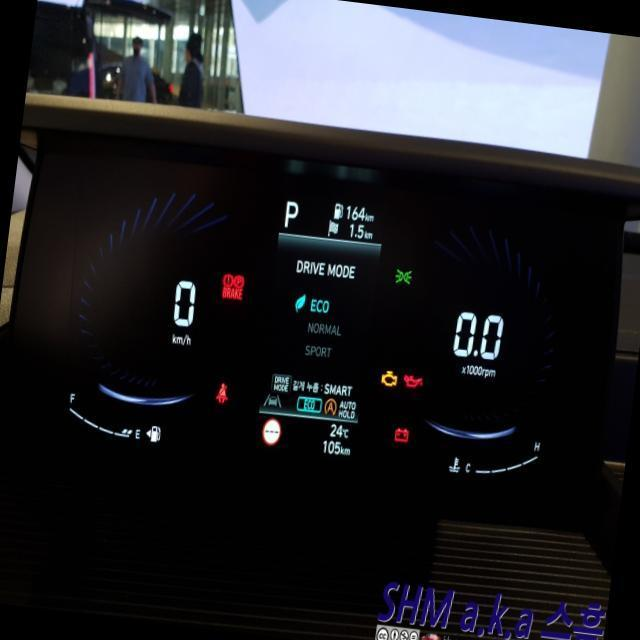SideLamp: (392, 266, 412, 284)
